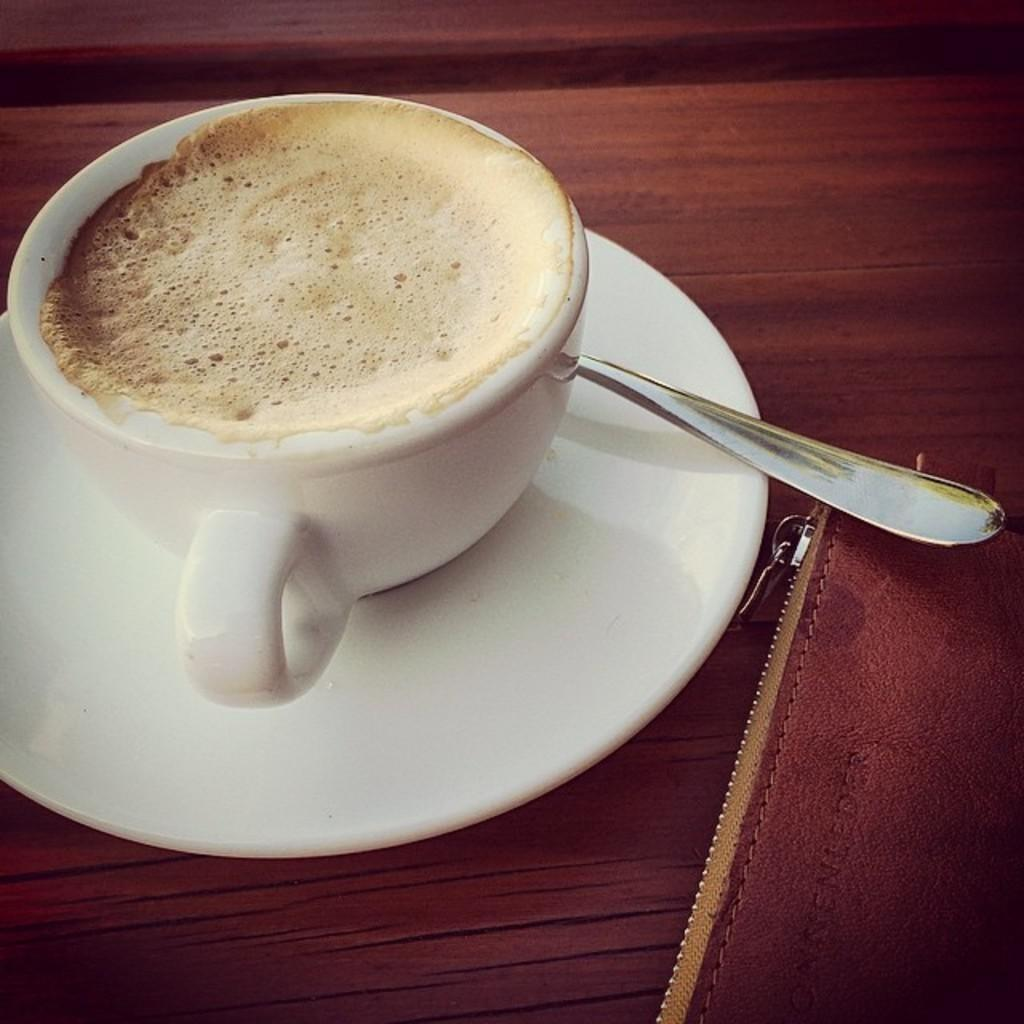cup-handle: (6, 90, 592, 709)
